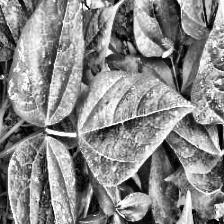Bean Rust: (77, 74, 193, 182), (8, 0, 87, 128), (8, 134, 79, 224), (190, 0, 224, 124)
